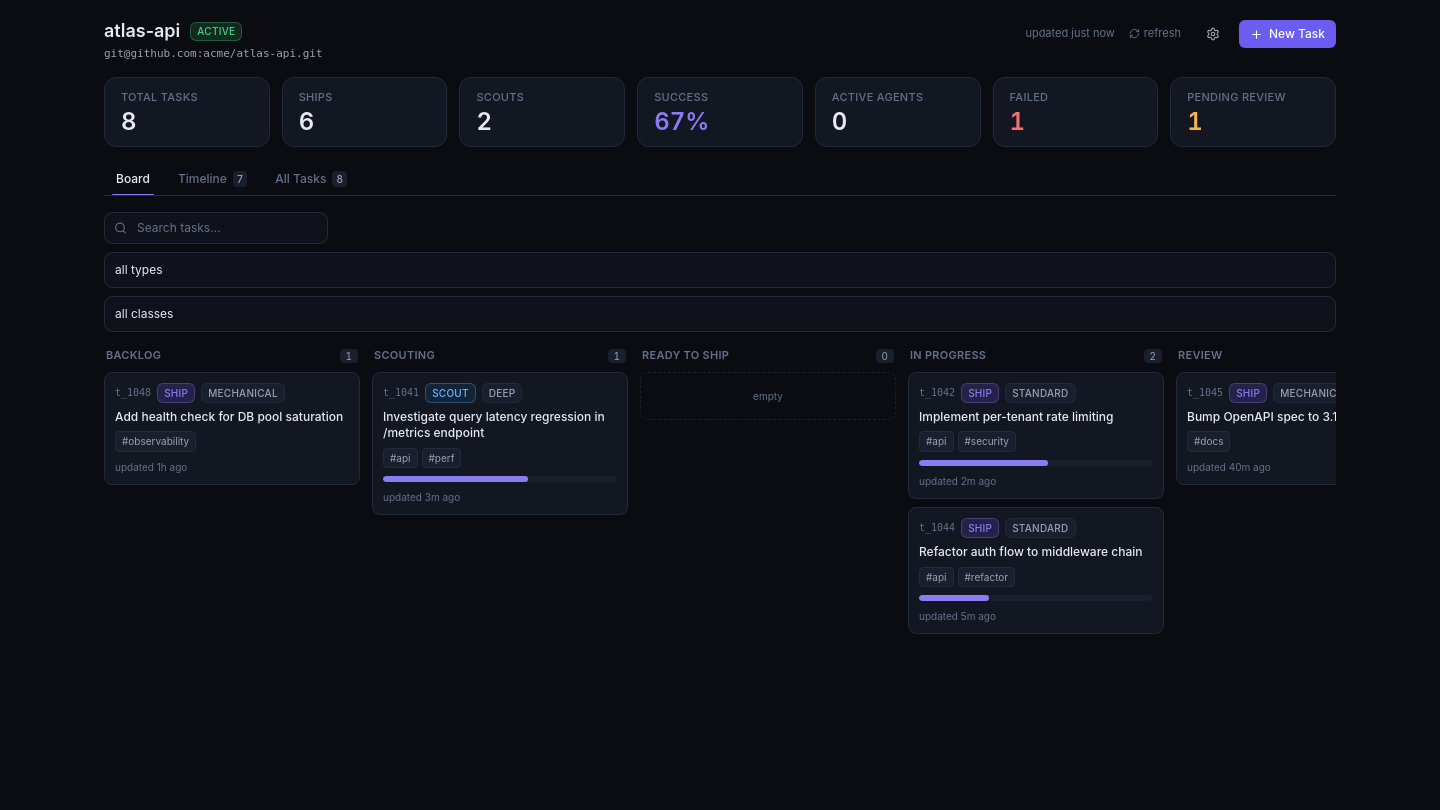
Scenario: Project dashboard board › filters tasks by type
Expected: the text "Implement per-tenant rate limiting" is shown, x1=919 y1=409 x2=1114 y2=424
Select "scout" in the 1st dropdown showing "all types" at (720, 270), box x1=104 y1=252 x2=1336 y2=288
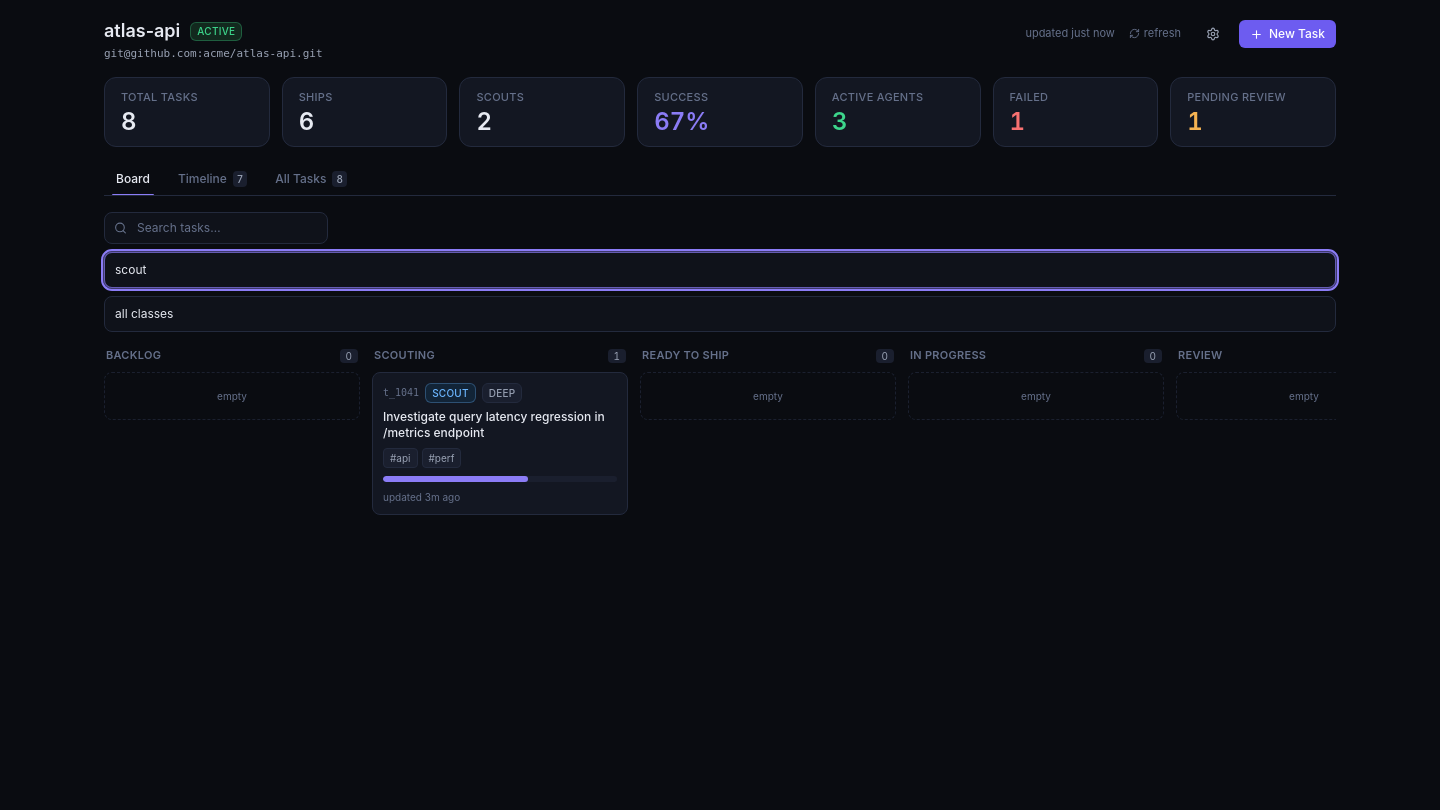
Expected: the text "Investigate query latency regression in /metrics endpoint" is shown, x1=383 y1=409 x2=617 y2=442
Now the button "Implement per-tenant rate limiting" is gone
